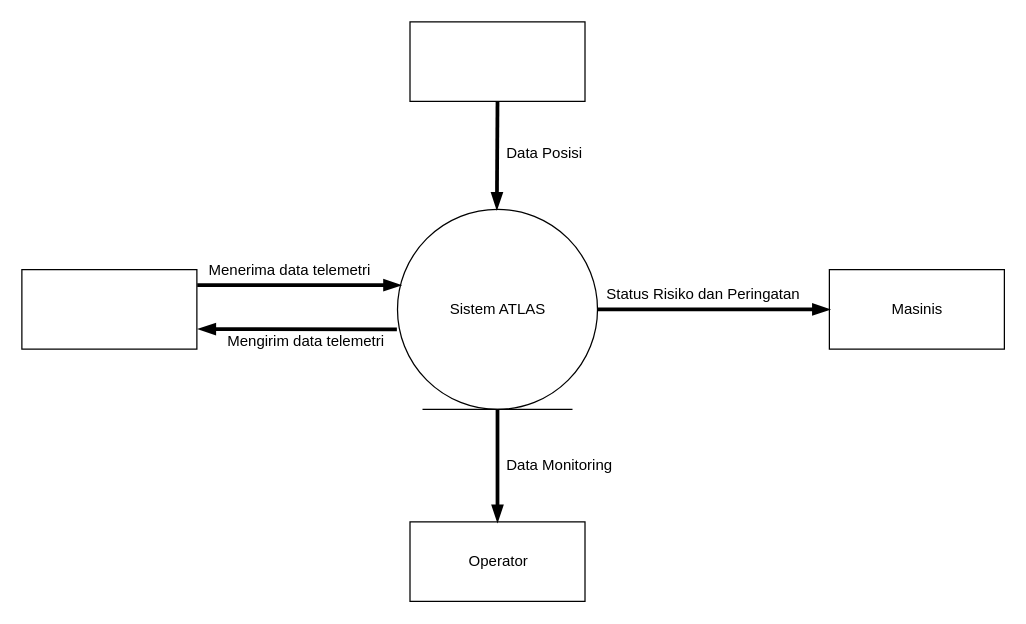
Image size: 1026x624. Some labels were removed from this diagram. The shapes that lost their labels are listed below. From the top down, each one's centre as x and y in pixels, then its label:
pixel 497 61: GPS RTK
pixel 109 308: Kereta ATLAS Lain
